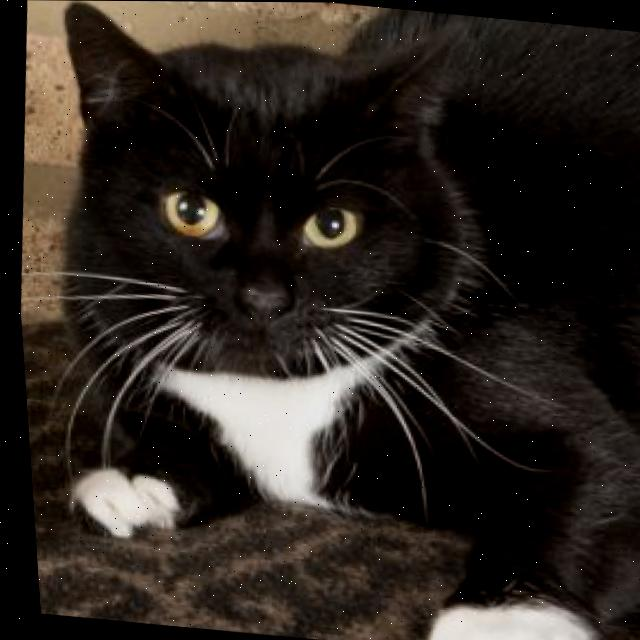Tuxedo: (6, 0, 640, 640)
